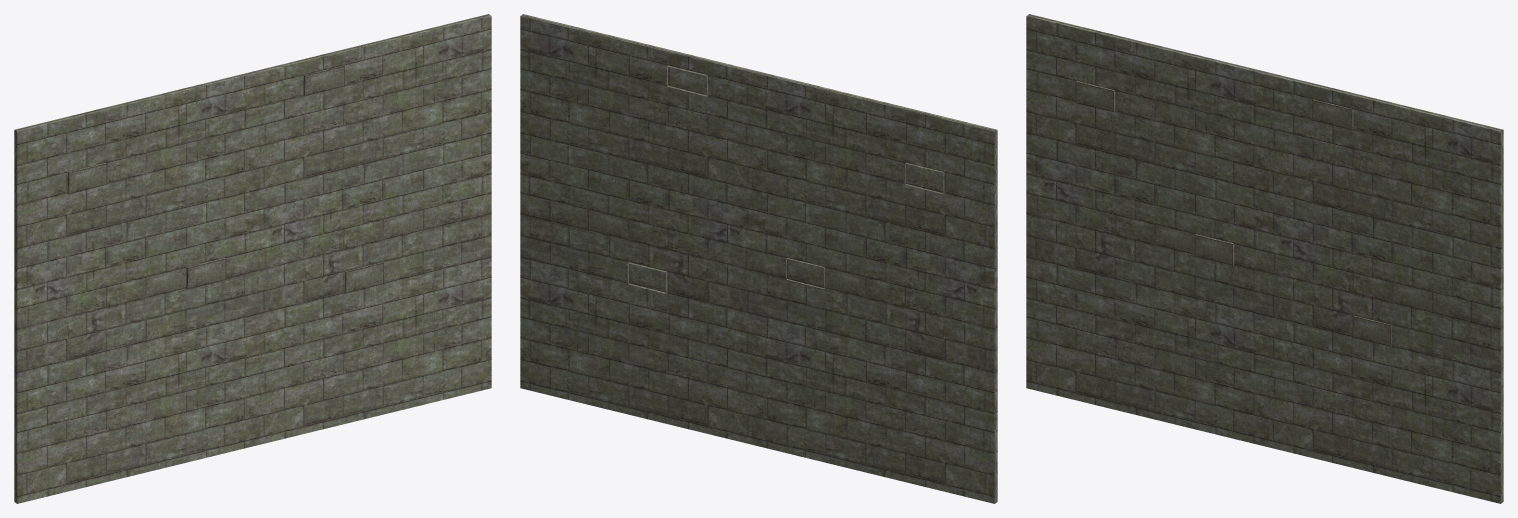
File: wall1.fbx
3 renders of one model, left to right at view 1: azimuth 30°, elevation 25°; view 2: azimuth 150°, elevation 25°; view 3: azimuth 330°, elevation 25°, orthographic.
Parts seen in each view (by area): view 1: Mesh Object; view 2: Mesh Object; view 3: Mesh Object.
Part boxes in pixels (box(x1,y1,x2,y2)): Mesh Object: box(14, 14, 491, 503); Mesh Object: box(520, 14, 997, 503); Mesh Object: box(1026, 14, 1503, 503).
Bounding box in the file's own units: 4 × 3 × 0.077.
